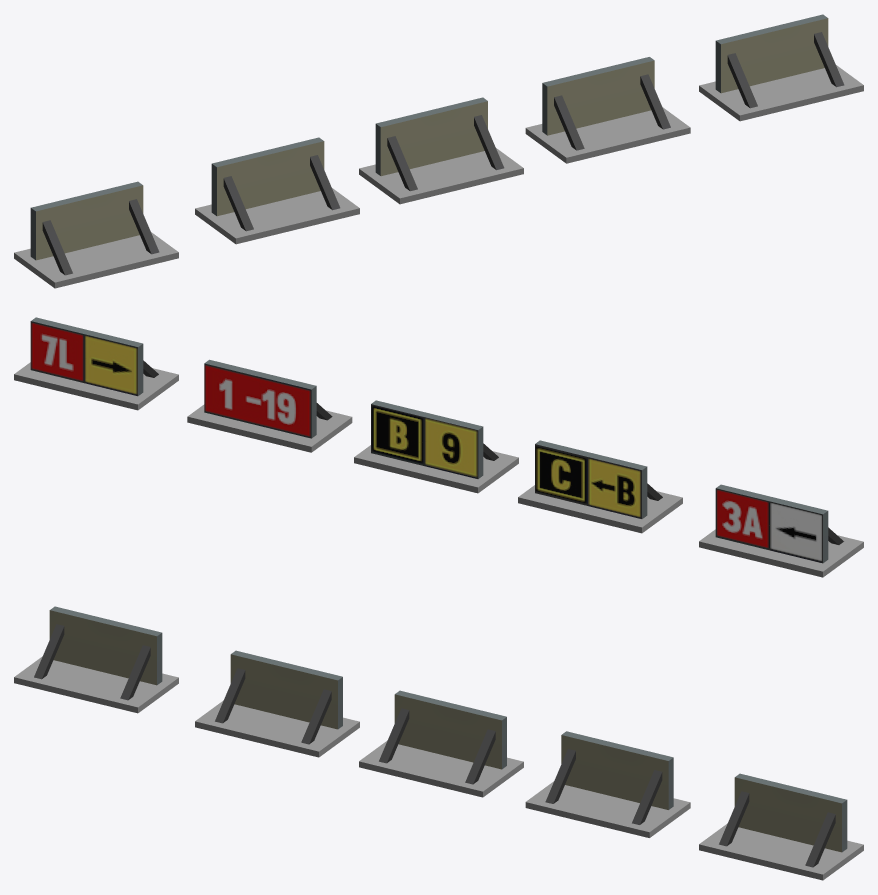
Rendered from Signs.fbx.
3 renders of one model, top to bottom at view 1: azimuth 30°, elevation 25°; view 2: azimuth 150°, elevation 25°; view 3: azimuth 330°, elevation 25°, orthographic.
Parts seen in each view (by area): view 1: Sign_11, Sign_15, Sign_14, Sign_12, Sign_13; view 2: Sign_11, Sign_15, Sign_12, Sign_13, Sign_14; view 3: Sign_15, Sign_11, Sign_12, Sign_14, Sign_13.
Part boxes in pixels (x1,y1,x2,y2): Sign_11: [699, 14, 863, 121]; Sign_15: [14, 181, 178, 288]; Sign_14: [195, 137, 359, 244]; Sign_12: [525, 57, 690, 163]; Sign_13: [359, 97, 523, 204]; Sign_11: [14, 317, 178, 410]; Sign_15: [699, 484, 863, 577]; Sign_12: [187, 359, 352, 452]; Sign_13: [354, 400, 518, 493]; Sign_14: [518, 440, 682, 533]; Sign_15: [14, 606, 178, 713]; Sign_11: [699, 773, 863, 880]; Sign_12: [525, 731, 690, 837]; Sign_14: [195, 650, 359, 757]; Sign_13: [359, 690, 523, 797].
Bounding box in the file's own units: 3452 × 224 × 303.
